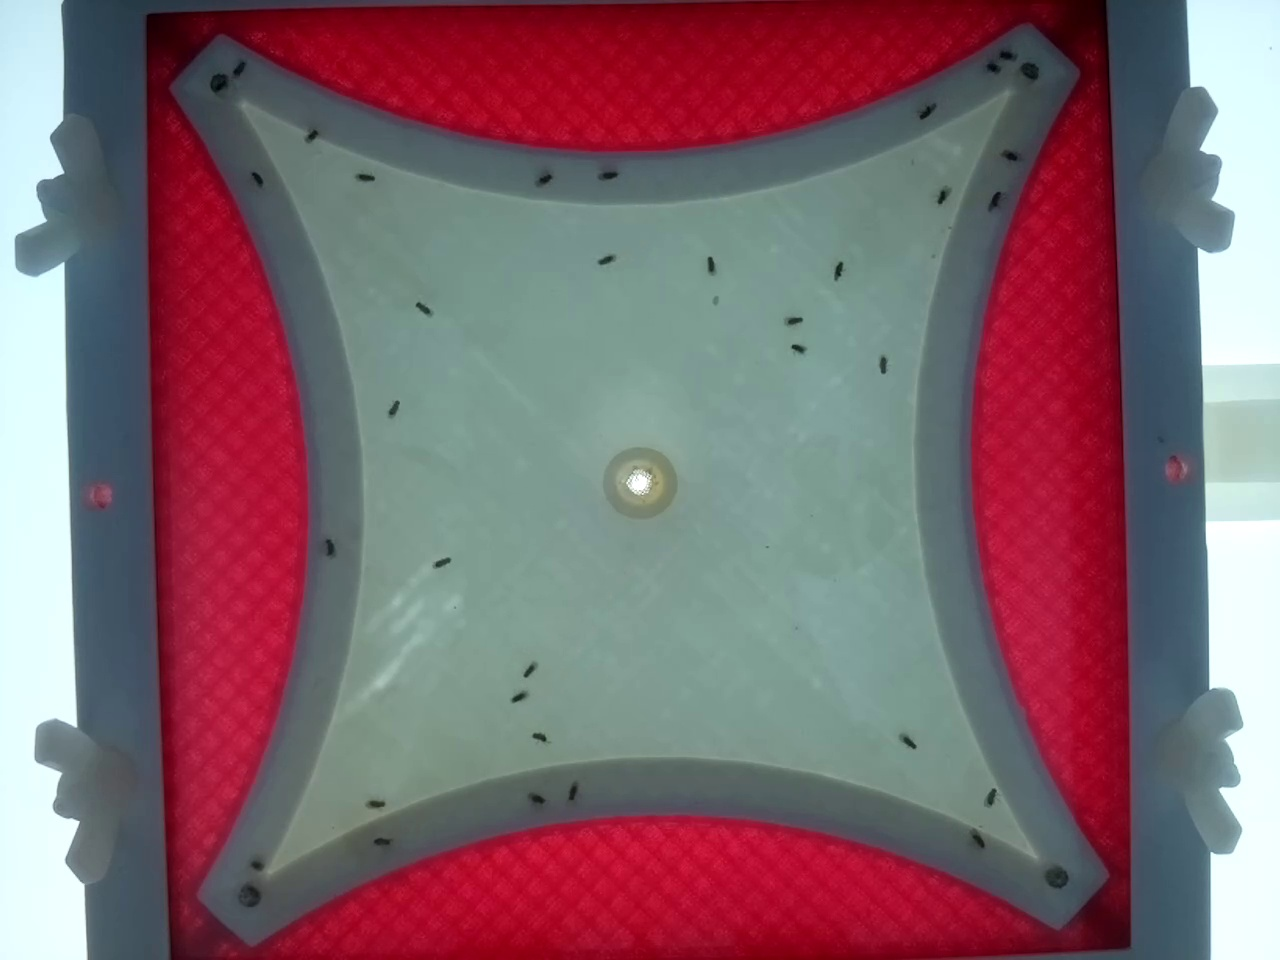fly: (982, 188, 1007, 213), (997, 143, 1022, 168), (913, 99, 938, 124), (589, 247, 614, 272), (929, 183, 954, 208), (785, 336, 810, 361), (780, 308, 805, 333), (870, 350, 895, 375), (601, 449, 626, 474), (527, 724, 552, 749), (895, 728, 920, 753), (362, 790, 387, 815), (500, 687, 525, 712), (978, 784, 1003, 809), (523, 786, 548, 811), (965, 827, 990, 852), (243, 852, 268, 877), (367, 829, 392, 854), (244, 166, 269, 191), (299, 121, 324, 146), (531, 166, 556, 191), (225, 57, 250, 82), (976, 57, 1001, 82), (698, 252, 723, 277), (826, 256, 851, 281), (598, 161, 623, 186), (1014, 61, 1039, 85), (411, 296, 436, 321), (351, 164, 376, 189), (993, 42, 1018, 67), (381, 396, 406, 421), (429, 549, 454, 574), (516, 657, 541, 682), (240, 878, 265, 903), (317, 534, 342, 559), (560, 779, 585, 804)
